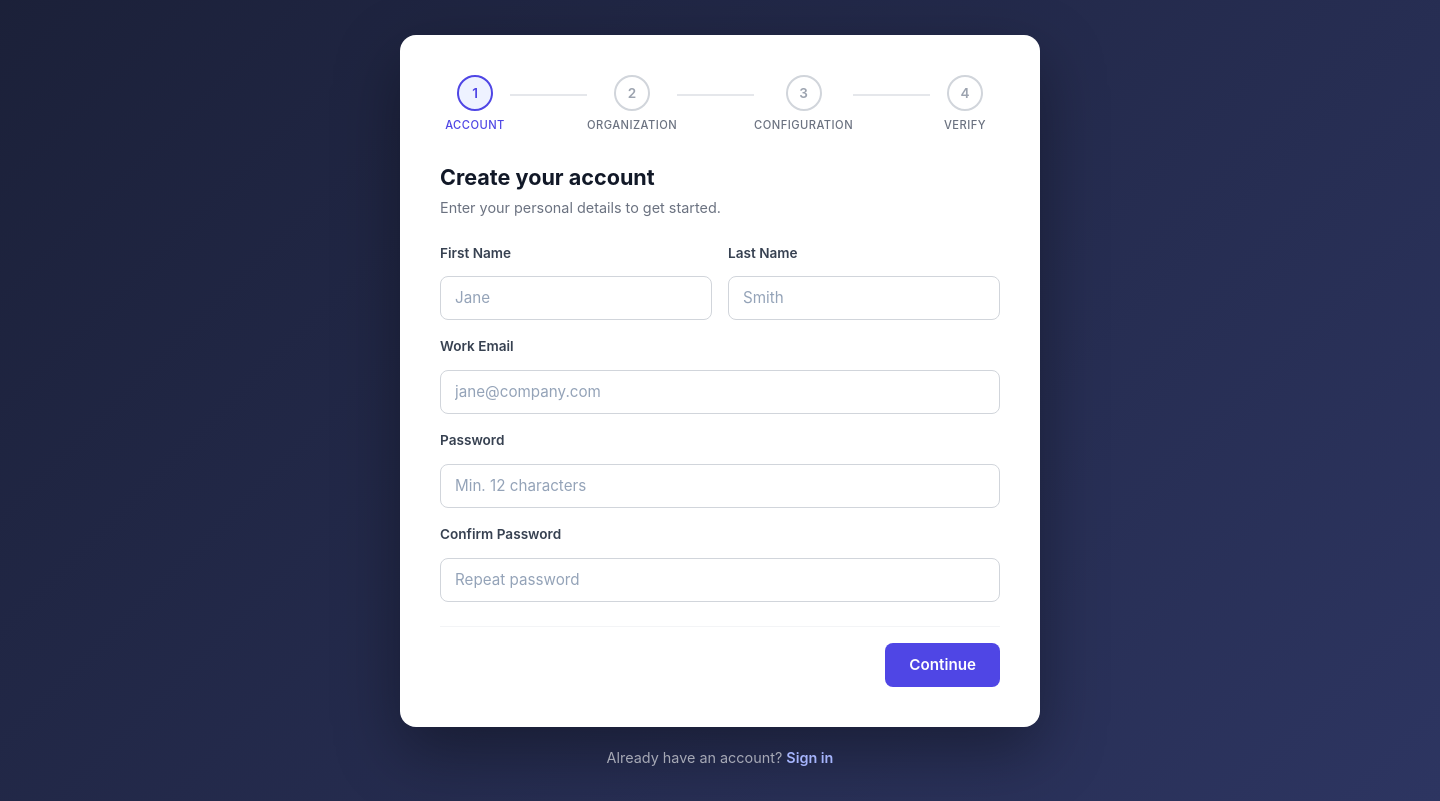
Test: SignupForm Component › shows validation errors when Next is clicked with empty step 1 fields
(page scrolled)
Click the button "Continue": (943,665) [885, 643, 1000, 687]
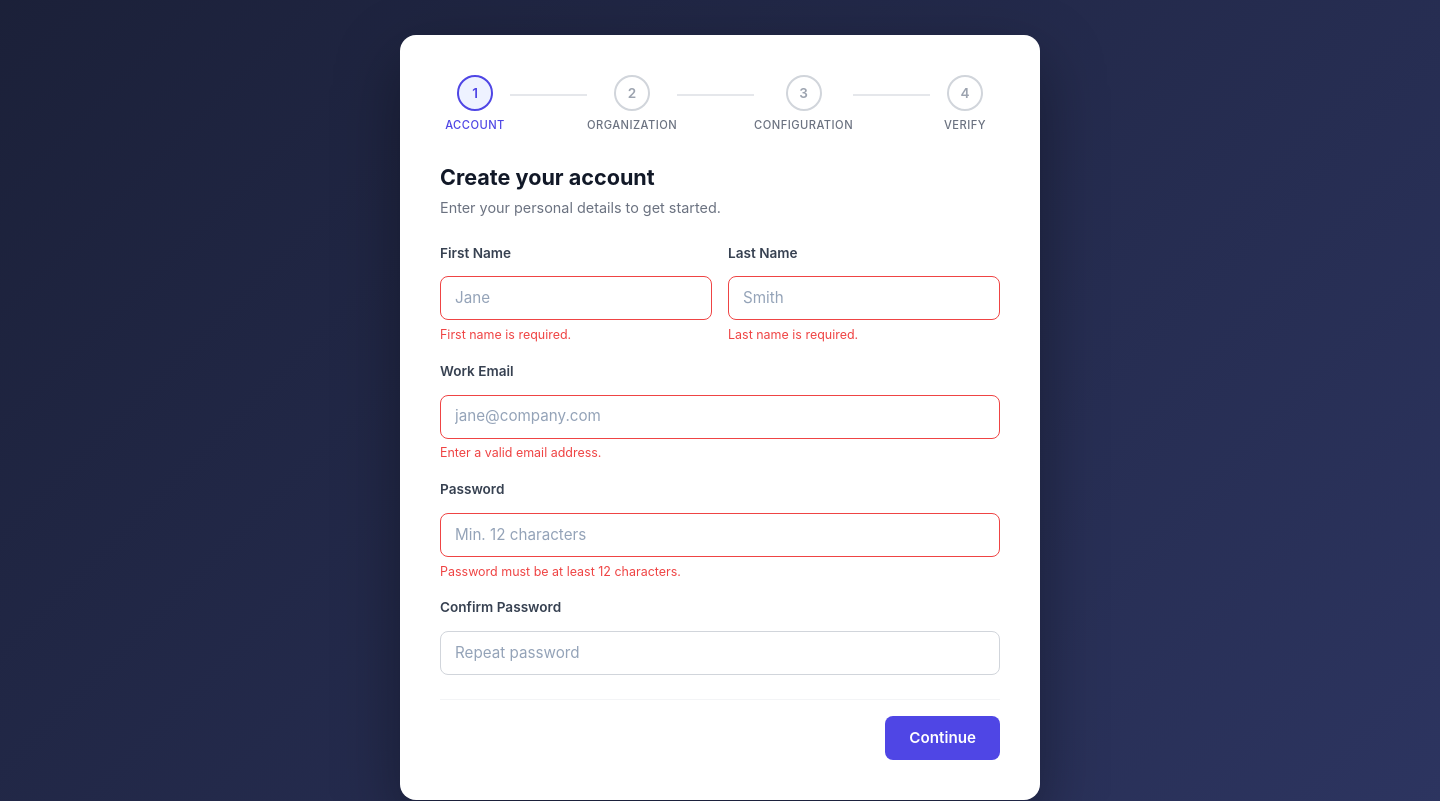
Expected: the text "First name is required." is shown, [440, 327, 571, 342]
